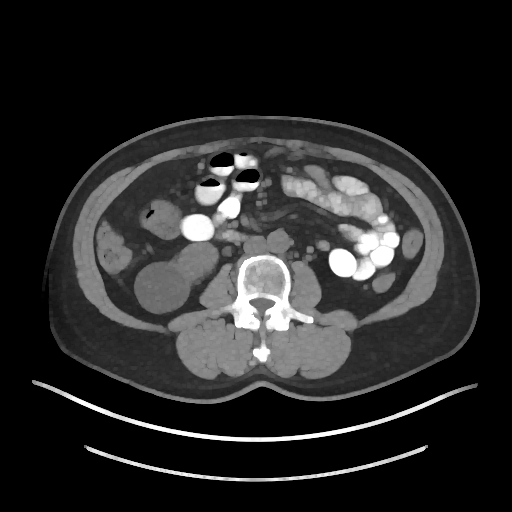Lesion: (134, 257, 192, 318)
